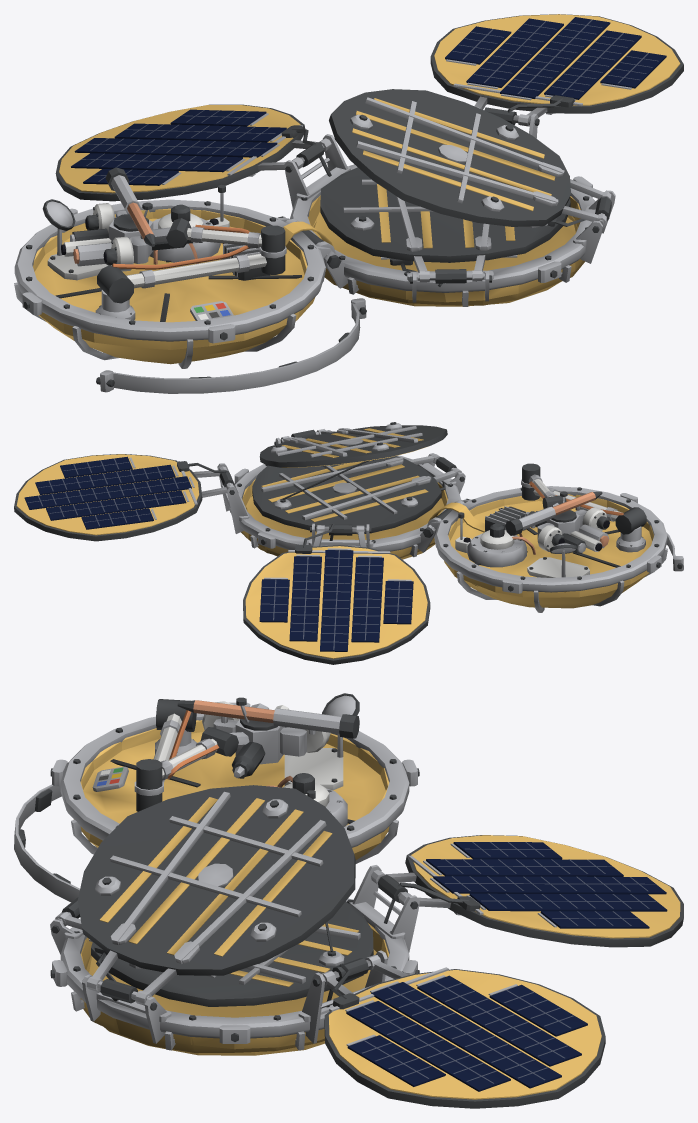
File: beagle2.glb
3 views of the same model, one above another, from view 1: azimuth 30°, elevation 25°; view 2: azimuth 150°, elevation 25°; view 3: azimuth 270°, elevation 25° (orthographic). The views are drawn at different scales.
Visible parts, largest first — view 1: beagle2_mesh; view 2: beagle2_mesh; view 3: beagle2_mesh.
Boxes of the visible parts, x1,y1,x2,y2 form: beagle2_mesh: (14,14,683,393); beagle2_mesh: (14,422,683,664); beagle2_mesh: (14,693,683,1108).
Size of the model in its own units: 1.88 by 0.3638 by 1.31.
